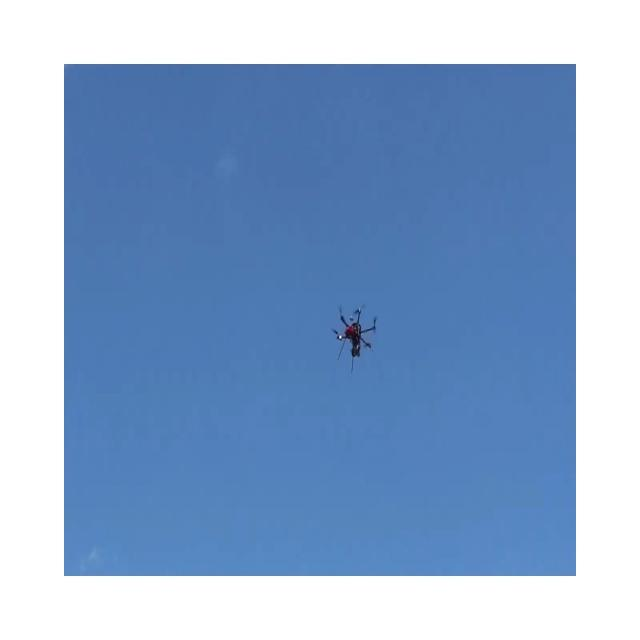drone: (331, 304, 377, 374)
